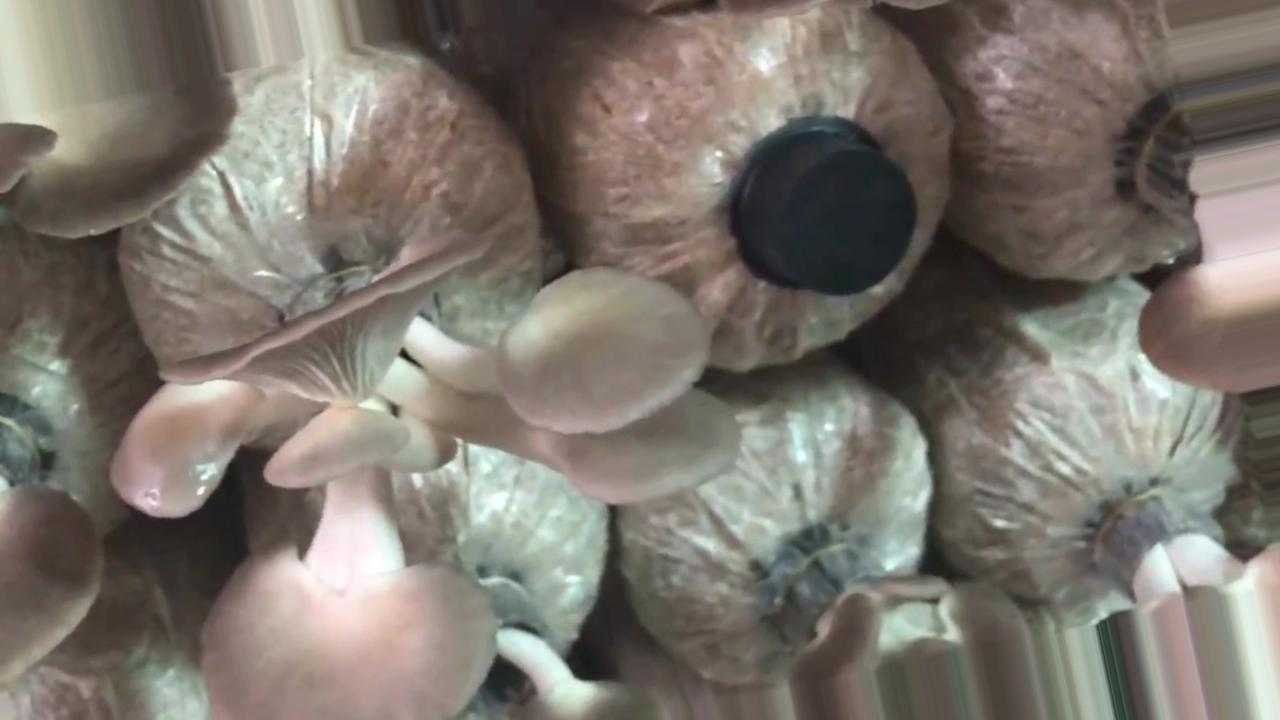nam: (114, 218, 743, 720), (1128, 96, 1280, 384)
